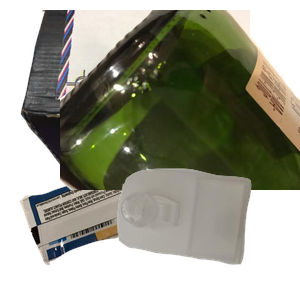cardboard: (18, 10, 258, 171)
glass: (60, 10, 300, 190)
plastic: (115, 166, 300, 300)
trash: (17, 123, 257, 300)
